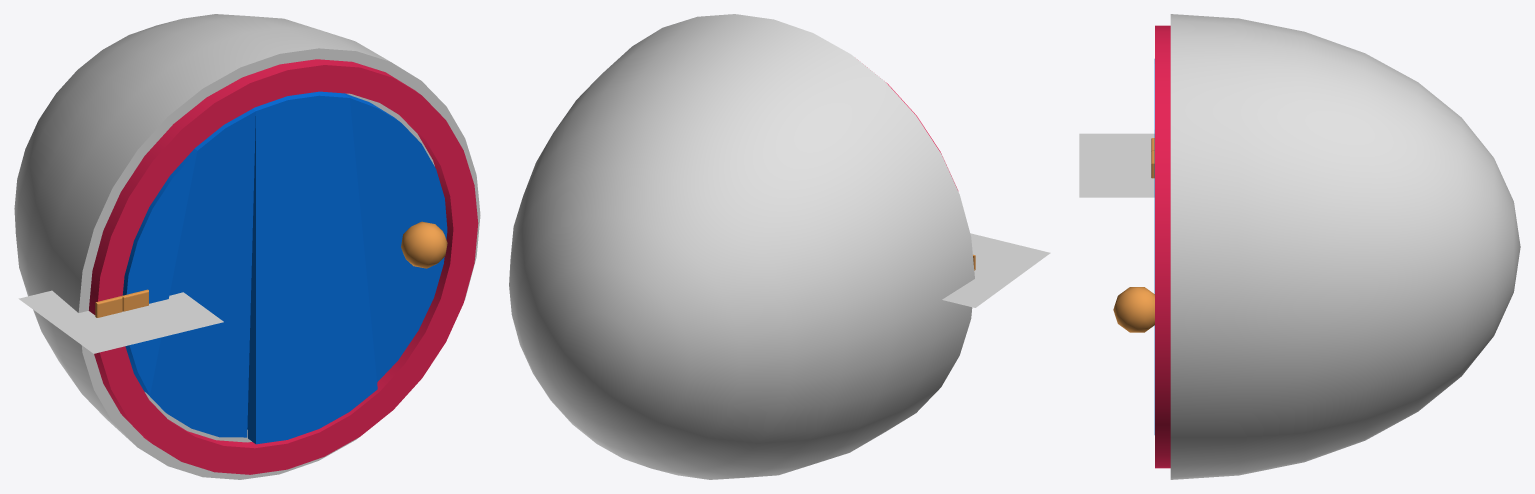
File: BunnyDoor.fbx
3 renders of one model, left to right at view 1: azimuth 30°, elevation 25°; view 2: azimuth 150°, elevation 25°; view 3: azimuth 270°, elevation 25°, orthographic.
Visible parts, largest first — view 1: Door, SemiSphereIExt, DoorFrame, DoorAxis, Icosphere; view 2: SemiSphereIExt, DoorAxis; view 3: SemiSphereIExt, DoorFrame, DoorAxis, Icosphere.
Part boxes in pixels (bbox=[...]): Door: bbox=[122, 91, 447, 444]; SemiSphereIExt: bbox=[14, 14, 480, 479]; DoorFrame: bbox=[88, 59, 478, 474]; DoorAxis: bbox=[18, 290, 223, 353]; Icosphere: bbox=[401, 221, 447, 268]; SemiSphereIExt: bbox=[509, 14, 974, 479]; DoorAxis: bbox=[942, 233, 1050, 307]; SemiSphereIExt: bbox=[1170, 14, 1520, 479]; DoorFrame: bbox=[1155, 25, 1170, 468]; DoorAxis: bbox=[1079, 133, 1154, 197]; Icosphere: bbox=[1113, 287, 1154, 332].
Bounding box in the file's own units: 6.62 × 6.16 × 5.82.
